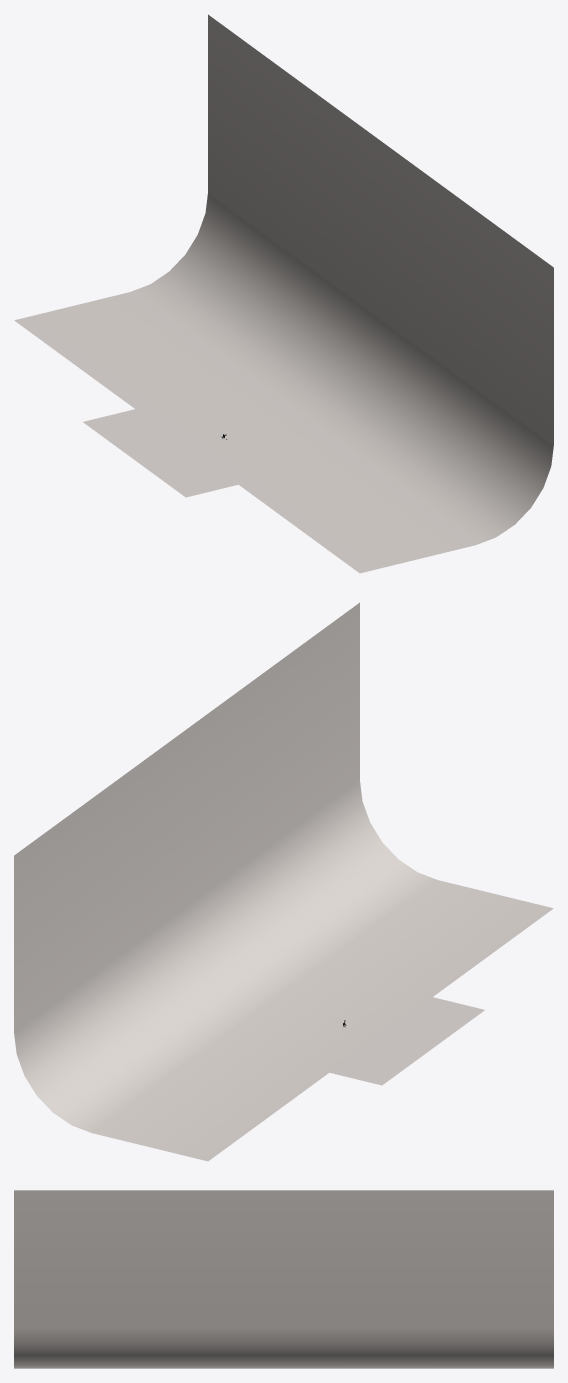
Rendered from laptop.gltf.
The picture shows the model from 3 angles, top to bottom: view 1: azimuth 30°, elevation 25°; view 2: azimuth 150°, elevation 25°; view 3: azimuth 270°, elevation 25°; orthographic projection. The views are drawn at different scales.
Visible parts, largest first — view 1: Background, Background2; view 2: Background, Background2; view 3: Background.
Boxes of the visible parts, <box> form: Background: <box>14,14,553,573</box>; Background2: <box>83,386,241,497</box>; Background: <box>14,602,553,1161</box>; Background2: <box>309,974,484,1085</box>; Background: <box>14,1190,553,1368</box>.
Size of the model in its own units: 138 by 138 by 335.
Materials: 8 (1 with a texture image).
